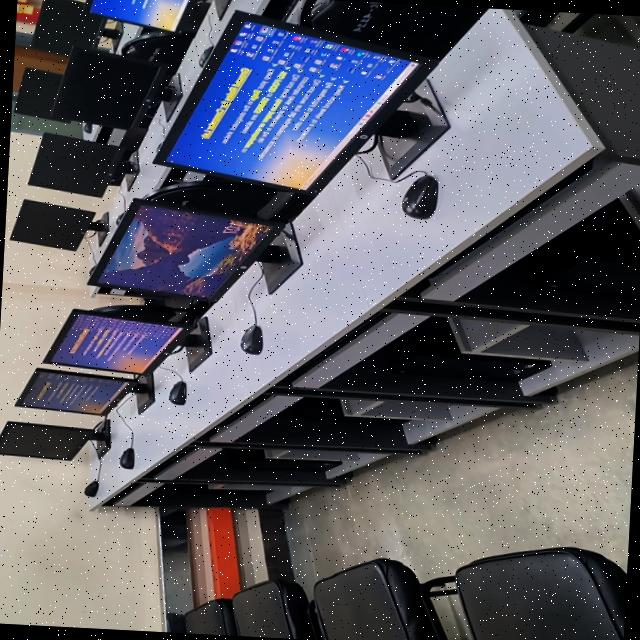Chair: (454, 547, 627, 640), (299, 0, 487, 59), (313, 558, 438, 640), (143, 179, 309, 220), (232, 580, 313, 640), (116, 28, 192, 73), (91, 303, 208, 324), (184, 598, 237, 636), (518, 10, 560, 26)
Cpu: (517, 200, 640, 300), (386, 318, 549, 381), (225, 450, 339, 472)
Fire Extinguisher: (15, 3, 39, 23), (16, 0, 29, 3)
Monitor: (153, 11, 437, 193), (88, 199, 283, 302), (50, 48, 180, 130), (42, 309, 198, 374), (28, 134, 138, 197), (15, 369, 150, 416), (10, 200, 107, 251), (30, 0, 118, 56), (0, 422, 104, 460), (86, 0, 200, 31), (14, 68, 68, 123)
Mouse: (401, 175, 437, 219), (239, 325, 261, 355), (81, 123, 112, 143), (168, 381, 185, 405), (118, 448, 133, 469), (83, 481, 97, 497)
